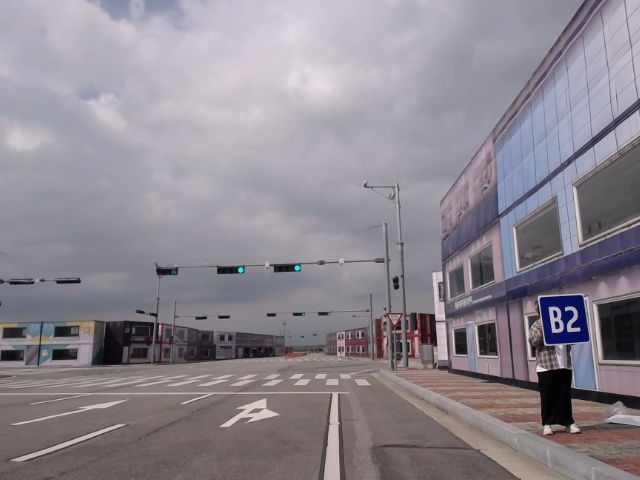delivery_b2: (537, 292, 593, 347)
straight_green_4: (213, 264, 248, 275), (271, 262, 303, 274), (316, 310, 333, 317), (292, 311, 307, 318)
